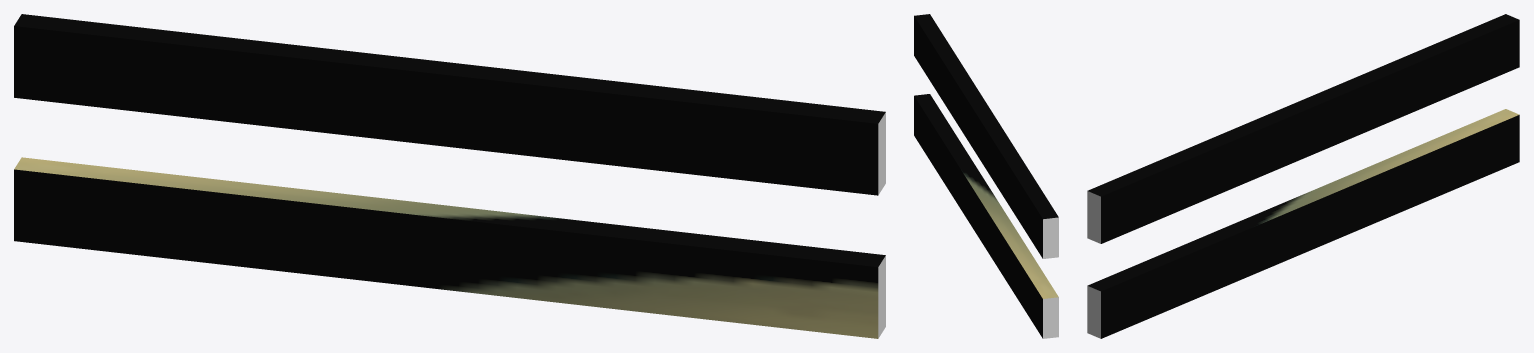
The model's file is Path_Fence_45_Degrees_Straight_2x2.fbx.
3 views of the same model, side by side, from view 1: azimuth 30°, elevation 25°; view 2: azimuth 150°, elevation 25°; view 3: azimuth 270°, elevation 25° (orthographic). The views are drawn at different scales.
Parts seen in each view (by area): view 1: Path_Fence_45_Degrees_Straight_2x2; view 2: Path_Fence_45_Degrees_Straight_2x2; view 3: Path_Fence_45_Degrees_Straight_2x2.
Boxes of the visible parts, x1=… form: Path_Fence_45_Degrees_Straight_2x2: x1=14, y1=14, x2=885, y2=338; Path_Fence_45_Degrees_Straight_2x2: x1=914, y1=14, x2=1058, y2=338; Path_Fence_45_Degrees_Straight_2x2: x1=1087, y1=14, x2=1519, y2=338.
Bounding box in the file's own units: 103 × 37.5 × 103.
